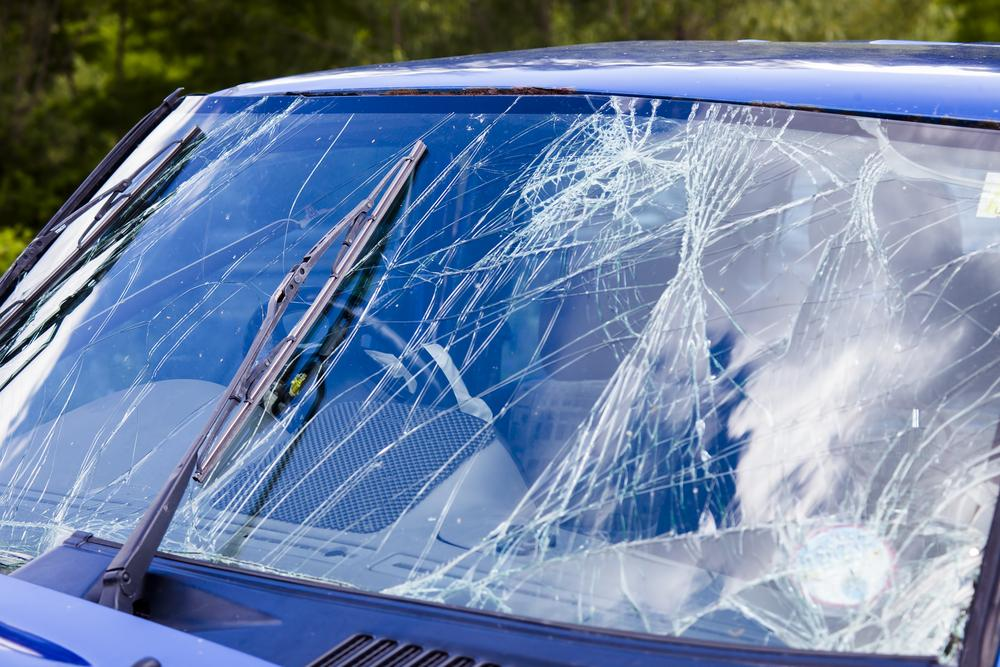glass shatter: (0, 95, 1000, 666)
